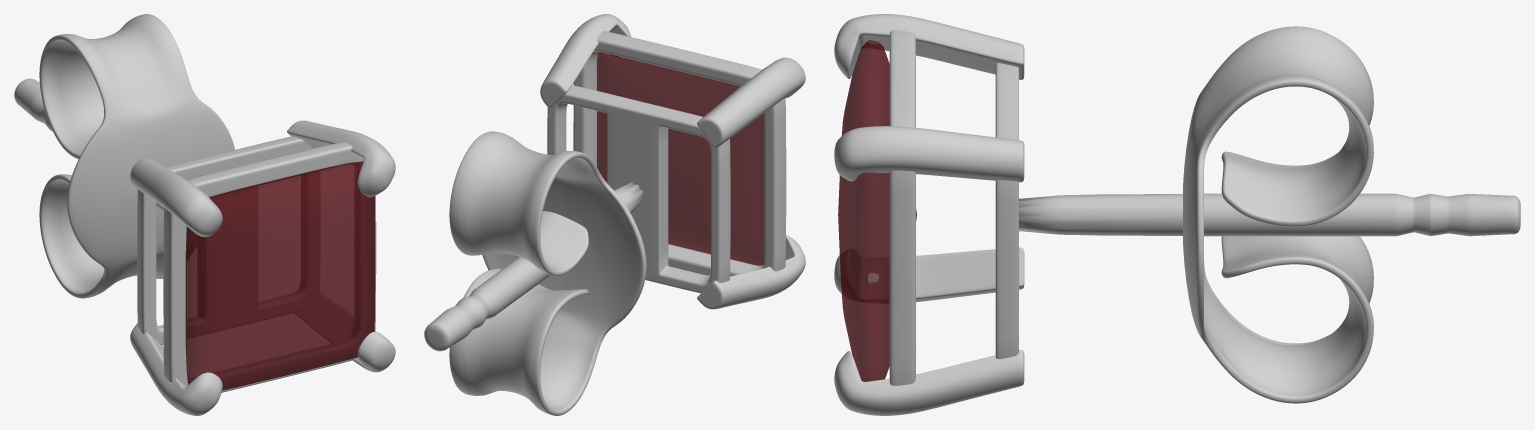
3 views of the same model, side by side, from view 1: azimuth 30°, elevation 25°; view 2: azimuth 150°, elevation 25°; view 3: azimuth 270°, elevation 25° (orthographic). The views are drawn at different scales.
Parts seen in each view (by area): view 1: platinum, ruby; view 2: platinum, ruby; view 3: platinum, ruby.
Part boxes in pixels (box(x1,y1,x2,y2)): platinum: box(14, 14, 395, 415); ruby: box(185, 161, 375, 390); platinum: box(424, 14, 805, 415); ruby: box(597, 52, 764, 265); platinum: box(834, 14, 1520, 415); ruby: box(838, 40, 916, 381).
Bounding box in the file's own units: 1.59 × 1.8 × 3.46.
